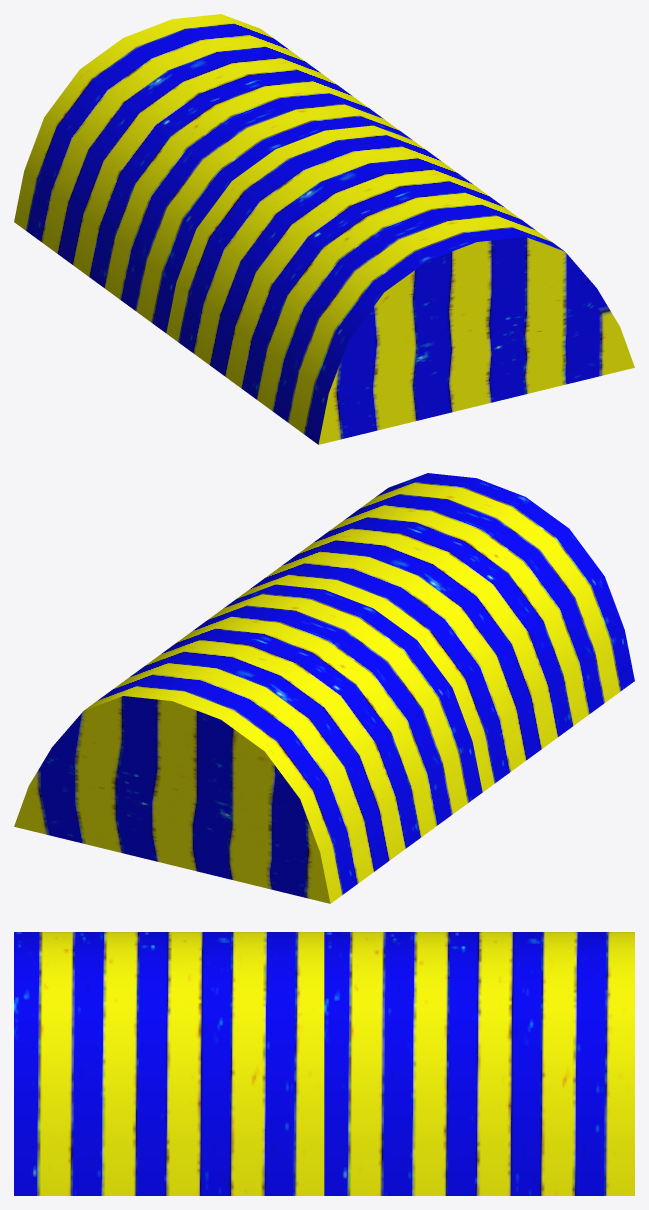
File: canopi 1.FBX
3 renders of one model, top to bottom at view 1: azimuth 30°, elevation 25°; view 2: azimuth 150°, elevation 25°; view 3: azimuth 270°, elevation 25°, orthographic.
Parts seen in each view (by area): view 1: Cylinder001; view 2: Cylinder001; view 3: Cylinder001.
Part boxes in pixels (x1,y1,x2,y2): Cylinder001: [14, 14, 634, 444]; Cylinder001: [14, 473, 634, 903]; Cylinder001: [14, 932, 634, 1195].
Bounding box in the file's own units: 24 × 11.9 × 40.
